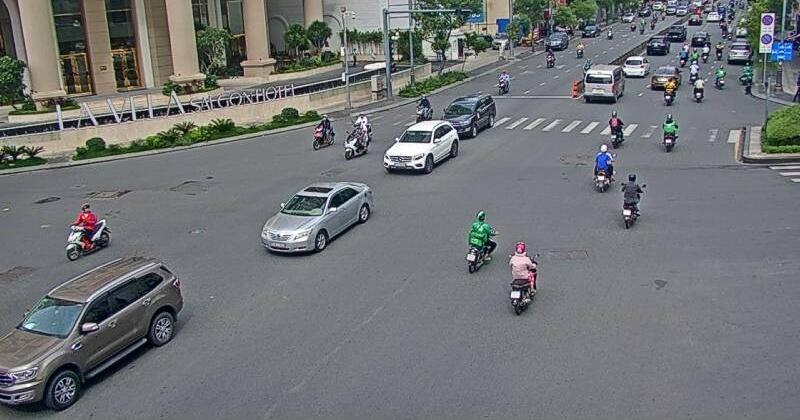xe hoi: (3, 253, 190, 415), (256, 181, 377, 256), (382, 118, 459, 175)
xe may: (506, 241, 540, 317), (68, 204, 109, 255), (465, 211, 496, 271), (620, 172, 646, 231), (592, 142, 615, 192), (311, 113, 335, 152), (343, 122, 367, 160), (659, 111, 677, 153), (607, 108, 624, 149)
